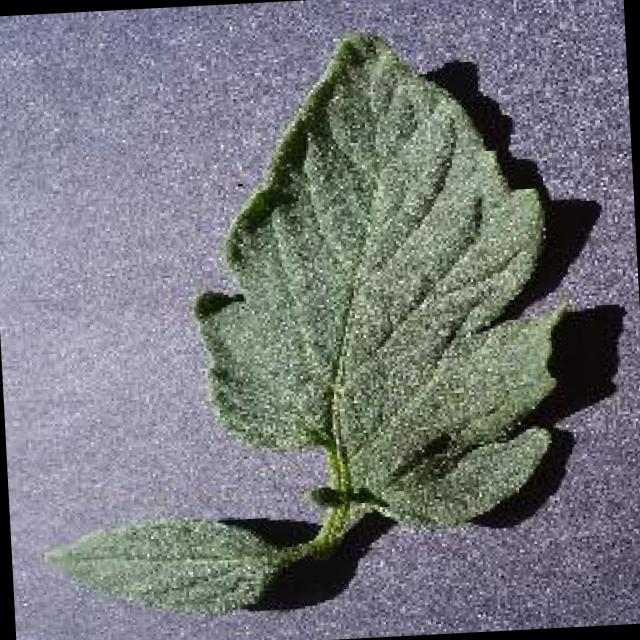Tomato_Healthy: (188, 13, 594, 545)
